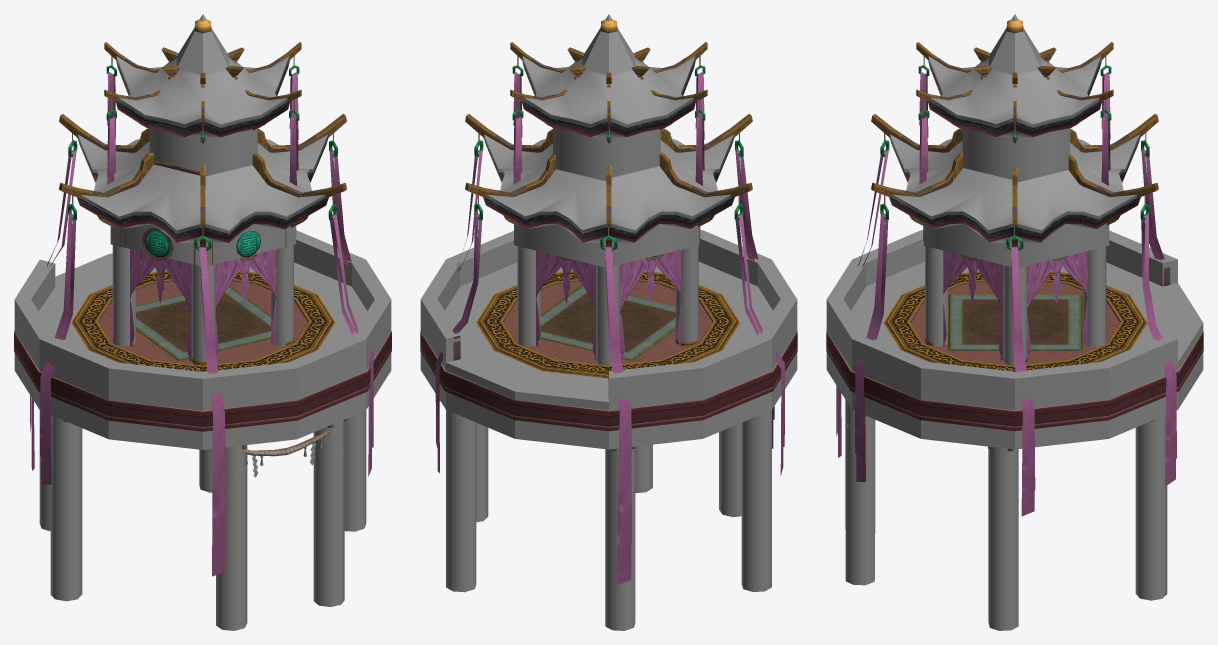
File: Scene_Build_HuanYinFang_NvDiTing_1.FBX
3 views of the same model, side by side, from view 1: azimuth 30°, elevation 25°; view 2: azimuth 150°, elevation 25°; view 3: azimuth 270°, elevation 25° (orthographic).
Parts seen in each view (by area): view 1: Scene_Build_HuanYinFang_NvDiTing_1_Xzm, Scene_Build_HuanYinFang_NvDiTing_1a, Scene_Build_HuanYinFang_NvDiTing_1b, Scene_Build_HuanYinFang_NvDiTing_1c, Scene_Build_HuanYinFang_NvDiTing_1_P_Xzm, Scene_Build_HuanYinFang_NvDiTing_1d; view 2: Scene_Build_HuanYinFang_NvDiTing_1_Xzm, Scene_Build_HuanYinFang_NvDiTing_1a, Scene_Build_HuanYinFang_NvDiTing_1b, Scene_Build_HuanYinFang_NvDiTing_1c, Scene_Build_HuanYinFang_NvDiTing_1_P_Xzm; view 3: Scene_Build_HuanYinFang_NvDiTing_1_Xzm, Scene_Build_HuanYinFang_NvDiTing_1a, Scene_Build_HuanYinFang_NvDiTing_1c, Scene_Build_HuanYinFang_NvDiTing_1b, Scene_Build_HuanYinFang_NvDiTing_1_P_Xzm.
Part boxes in pixels (box(x1,y1,x2,y2)): Scene_Build_HuanYinFang_NvDiTing_1_Xzm: box(14, 14, 391, 630); Scene_Build_HuanYinFang_NvDiTing_1a: box(51, 19, 346, 598); Scene_Build_HuanYinFang_NvDiTing_1b: box(14, 60, 391, 431); Scene_Build_HuanYinFang_NvDiTing_1c: box(30, 72, 373, 576); Scene_Build_HuanYinFang_NvDiTing_1_P_Xzm: box(39, 253, 367, 402); Scene_Build_HuanYinFang_NvDiTing_1d: box(72, 56, 342, 477); Scene_Build_HuanYinFang_NvDiTing_1_Xzm: box(420, 14, 797, 630); Scene_Build_HuanYinFang_NvDiTing_1a: box(465, 19, 763, 591); Scene_Build_HuanYinFang_NvDiTing_1b: box(420, 60, 797, 431); Scene_Build_HuanYinFang_NvDiTing_1c: box(435, 72, 784, 585); Scene_Build_HuanYinFang_NvDiTing_1_P_Xzm: box(445, 261, 772, 402); Scene_Build_HuanYinFang_NvDiTing_1_Xzm: box(826, 14, 1203, 630); Scene_Build_HuanYinFang_NvDiTing_1a: box(871, 19, 1165, 451); Scene_Build_HuanYinFang_NvDiTing_1c: box(836, 72, 1176, 516); Scene_Build_HuanYinFang_NvDiTing_1b: box(826, 60, 1203, 431); Scene_Build_HuanYinFang_NvDiTing_1_P_Xzm: box(851, 261, 1202, 361).
Bounding box in the file's own units: 1748 × 2712 × 1713.
